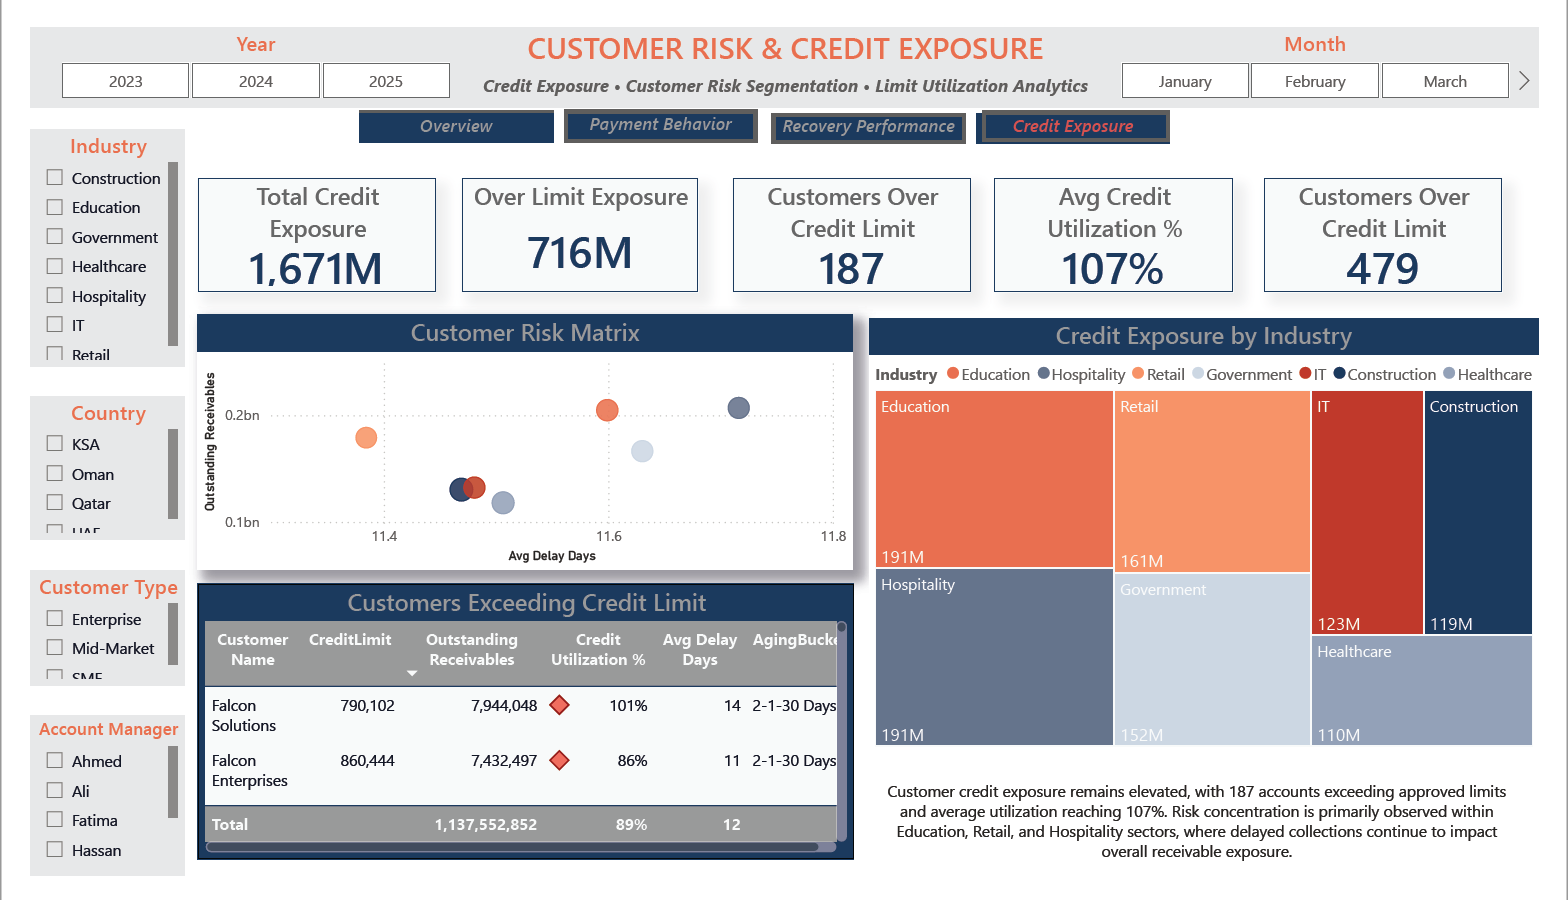

What the dashboard file says about the page in this screenshot:
{"tool":"powerbi","page":{"name":"Credit","canvas":[1280,720],"ordinal":3},"visuals":[{"type":"card","title":"Total Credit Exposure","fields":{"Values":["Calculations (2).Total Credit Exposure"]},"box":[142.1,128.2,202.3,97.3],"z":0},{"type":"card","title":"Over Limit Exposure","fields":{"Values":["Calculations (2).High Risk Exposure"]},"box":[365.9,128.2,200.7,97.3],"z":1000},{"type":"card","title":"Customers Over Credit Limit","fields":{"Values":["Calculations (2).Customers Over Credit Limit"]},"box":[596,128.2,202.3,97.3],"z":2000},{"type":"card","title":"Avg Credit Utilization %","fields":{"Values":["Calculations (2).Avg Credit Utilization %"]},"box":[818.3,128.2,202.3,97.3],"z":3000},{"type":"card","title":"Customers Over Credit Limit","fields":{"Values":["Calculations (2).High Risk Customers"]},"box":[1046.9,128.2,202.3,97.3],"z":4000},{"type":"slicer","title":"Year","fields":{"Values":["Calendar (2).Year"]},"box":[0,0,381.4,67.9],"z":5000},{"type":"textbox","title":"CUSTOMER RISK & CREDIT EXPOSURE","box":[365.9,0,549.7,67.9],"z":6000},{"type":"slicer","title":"Industry","fields":{"Values":["Customers (2).Industry"]},"box":[0,87.5,130.6,200.3],"z":7000},{"type":"slicer","title":"Month","fields":{"Values":["Calendar (2).MonthName"]},"box":[898.7,0,381.5,68.4],"z":8000},{"type":"slicer","title":"Country","fields":{"Values":["Customers (2).Country"]},"box":[0,312.7,130.7,122.2],"z":9000},{"type":"slicer","title":"Customer Type","fields":{"Values":["Customers (2).CustomerType"]},"box":[0,460.5,130.7,99],"z":10000},{"type":"slicer","title":"Account Manager","fields":{"Values":["Customers (2).AccountManager"]},"box":[0,583.9,130.7,135.6],"z":11000},{"type":"scatterChart","title":"Customer Risk Matrix","fields":{"X":["Calculations (2).Avg Delay Days"],"Y":["Calculations (2).Outstanding Receivables"],"Series":["Customers.Industry"],"Size":["Calculations (2).Credit Utilization %"]},"box":[142.1,244,555.9,216.2],"z":12000},{"type":"treemap","title":"Credit Exposure by Industry","fields":{"Values":["Calculations (2).Outstanding Receivables"],"Group":["Customers.Industry"]},"box":[711.8,247,568.2,367.5],"z":13000},{"type":"textbox","box":[711.6,634.1,556.5,85.2],"z":14000},{"type":"tableEx","title":"Customers Exceeding Credit Limit","fields":{"Values":["Customers.CustomerName","Customers.CreditLimit","Calculations (2).Outstanding Receivables","Calculations (2).Credit Utilization %","Calculations (2).Avg Delay Days","Invoices.AgingBucket"]},"box":[142.1,472.5,557.4,233.1],"z":15000},{"type":"group","id":"g1","title":"Top Navigation","box":[278.9,69.7,688.3,29.2],"z":16000},{"type":"actionButton","title":"Overview","box":[278.9,71,164.8,26.6],"z":20000,"group":"g1"},{"type":"textbox","title":"Payment Behavior","box":[452.6,71,164.8,26.6],"z":20062,"group":"g1"},{"type":"textbox","title":"Overview","box":[278.9,72.2,164.8,25.4],"z":20125,"group":"g1"},{"type":"textbox","title":"Recovery Performance","box":[628.8,72.2,164.8,26.6],"z":20250,"group":"g1"},{"type":"textbox","title":"Credit Exposure","box":[802.4,72.2,164.8,26.6],"z":20500,"group":"g1"},{"type":"actionButton","title":"Payment Behavior","box":[452.6,69.7,164.8,27.9],"z":21000,"group":"g1"},{"type":"actionButton","title":"Recovery Performance","box":[628.8,72.2,164.8,26.6],"z":22000,"group":"g1"},{"type":"actionButton","title":"Credit Exposure","box":[807.5,70.4,159.7,26.6],"z":23000,"group":"g1"}]}

Visuals, with their boxes in screenshot pixels (x1, y1, x2, y2), scaled from the page's 1280x720 canvas onto the 1568x900 screenshot:
"Total Credit Exposure" card: 174, 160, 422, 282
"Over Limit Exposure" card: 448, 160, 694, 282
"Customers Over Credit Limit" card: 730, 160, 978, 282
"Avg Credit Utilization %" card: 1002, 160, 1250, 282
"Customers Over Credit Limit" card: 1282, 160, 1530, 282
"Year" slicer: 0, 0, 467, 85
"CUSTOMER RISK & CREDIT EXPOSURE" textbox: 448, 0, 1122, 85
"Industry" slicer: 0, 109, 160, 360
"Month" slicer: 1101, 0, 1567, 86
"Country" slicer: 0, 391, 160, 544
"Customer Type" slicer: 0, 576, 160, 699
"Account Manager" slicer: 0, 730, 160, 899
"Customer Risk Matrix" scatterChart: 174, 305, 855, 575
"Credit Exposure by Industry" treemap: 872, 309, 1567, 768
textbox: 872, 793, 1553, 899
"Customers Exceeding Credit Limit" tableEx: 174, 591, 857, 882
"Top Navigation" group: 342, 87, 1185, 124
"Overview" actionButton: 342, 89, 544, 122
"Payment Behavior" textbox: 554, 89, 756, 122
"Overview" textbox: 342, 90, 544, 122
"Recovery Performance" textbox: 770, 90, 972, 124
"Credit Exposure" textbox: 983, 90, 1185, 124
"Payment Behavior" actionButton: 554, 87, 756, 122
"Recovery Performance" actionButton: 770, 90, 972, 124
"Credit Exposure" actionButton: 989, 88, 1185, 121
